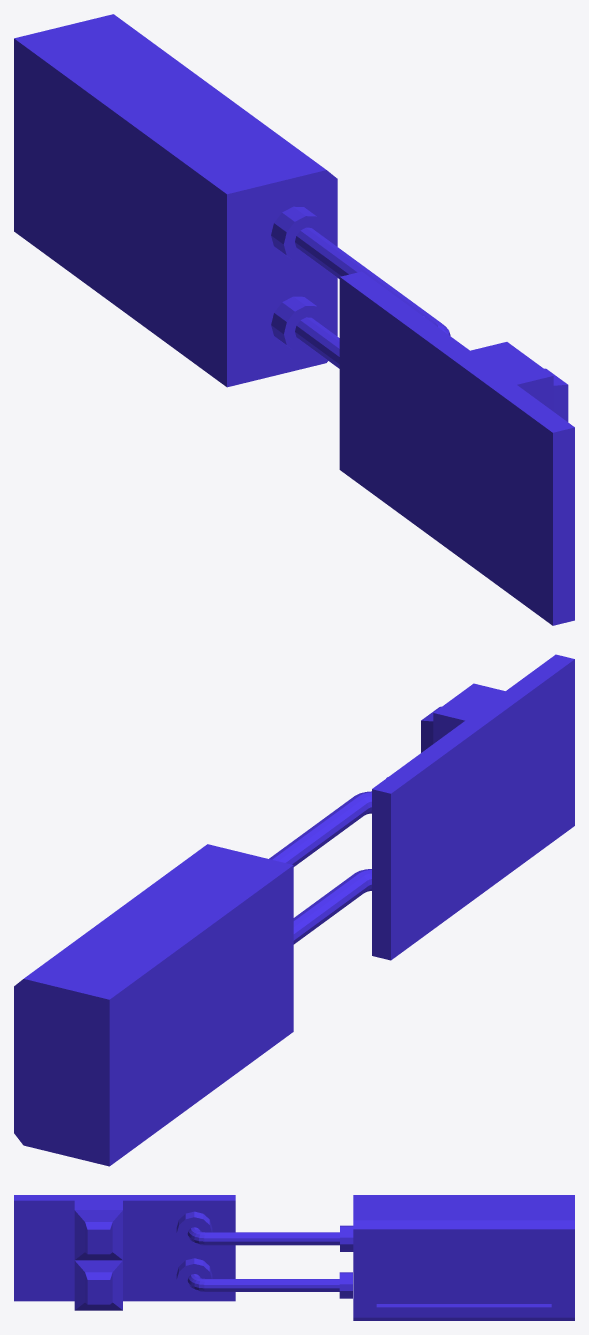
The model's file is Disjoncteur_mural.FBX.
3 renders of one model, top to bottom at view 1: azimuth 30°, elevation 25°; view 2: azimuth 150°, elevation 25°; view 3: azimuth 270°, elevation 25°, orthographic. The views are drawn at different scales.
Parts seen in each view (by area): view 1: generateur_electrique; view 2: generateur_electrique; view 3: generateur_electrique.
Part boxes in pixels (x1=…): generateur_electrique: x1=14, y1=14, x2=574, y2=625; generateur_electrique: x1=14, y1=654, x2=574, y2=1166; generateur_electrique: x1=14, y1=1195, x2=574, y2=1320.
Size of the model in its own units: 83.82 by 140 by 707.
